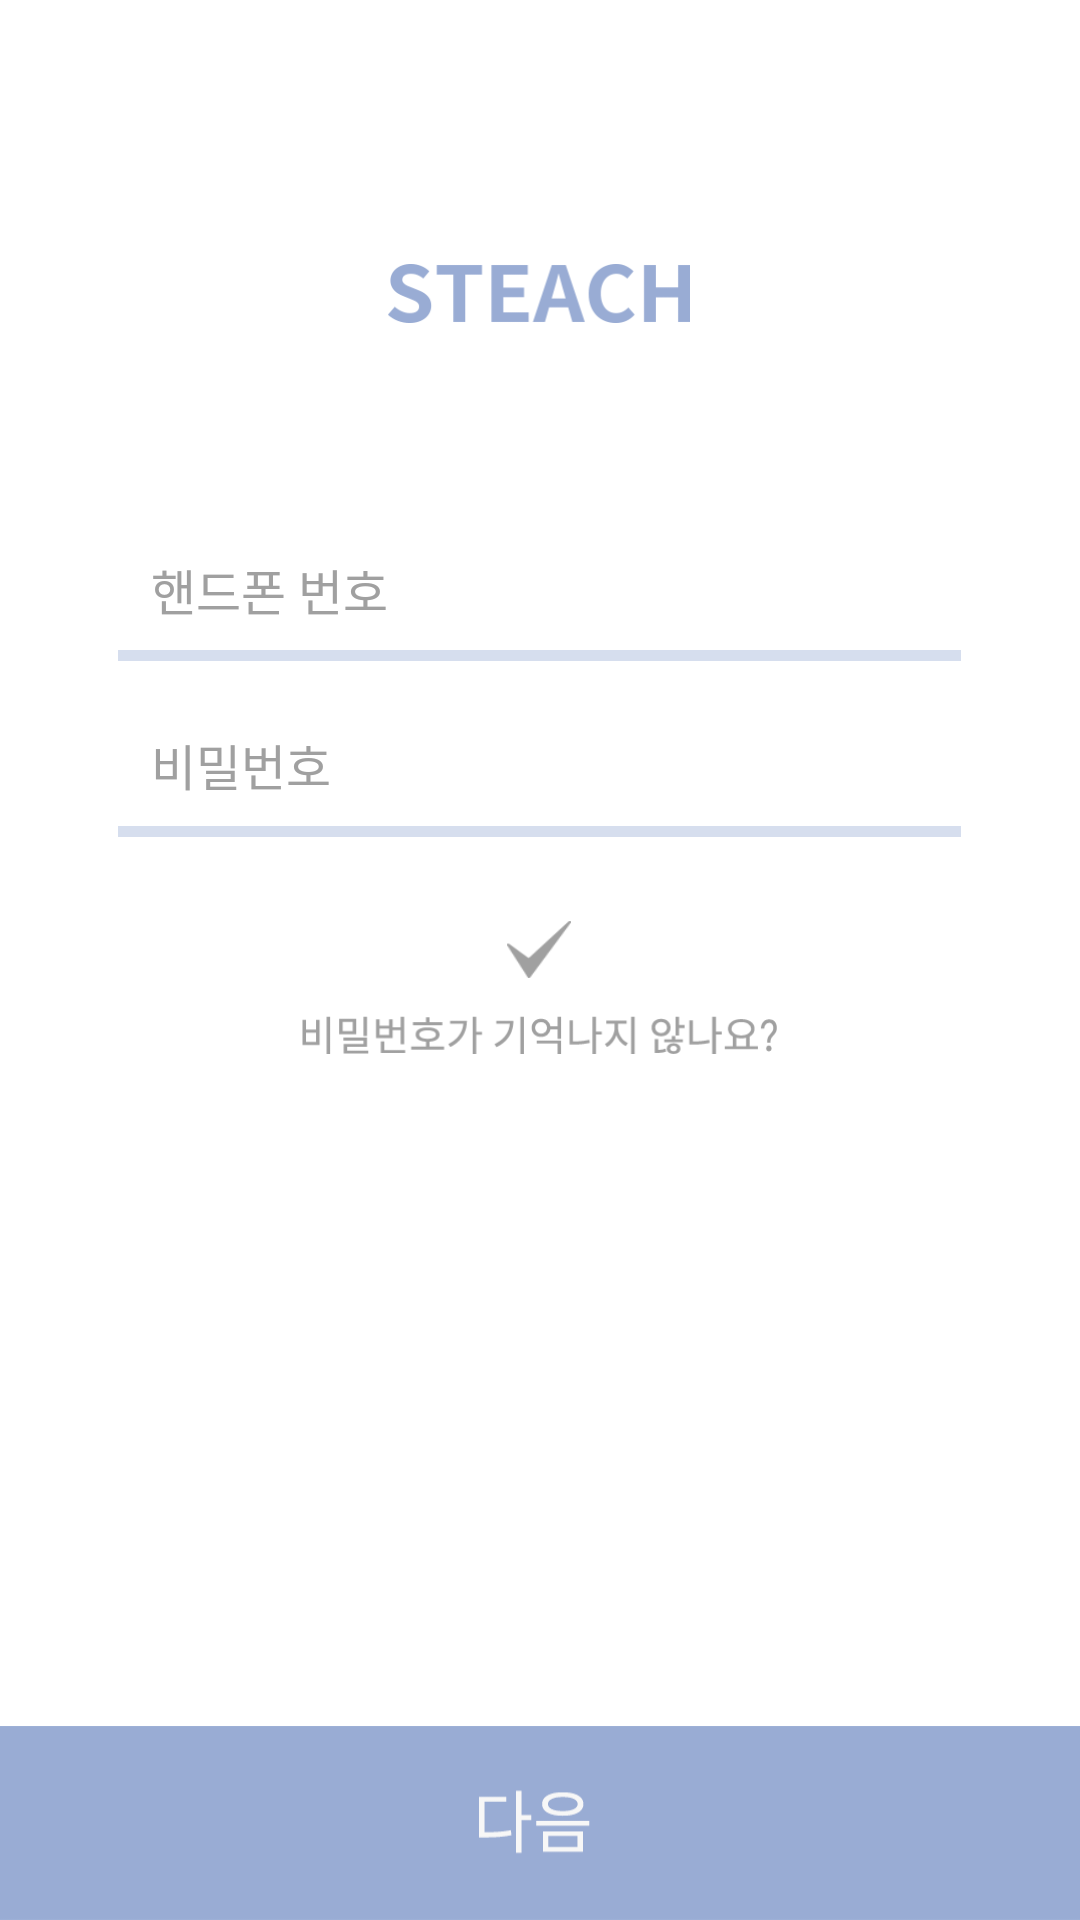

Icon bounding boxes for this 1080w x 1920h phone screenshot, format box=[x1, y1, x2, y2]:
check: box=[507, 921, 571, 978]
